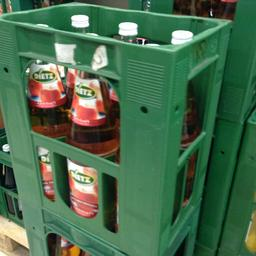juice: (68, 38, 114, 224), (26, 24, 68, 200)
